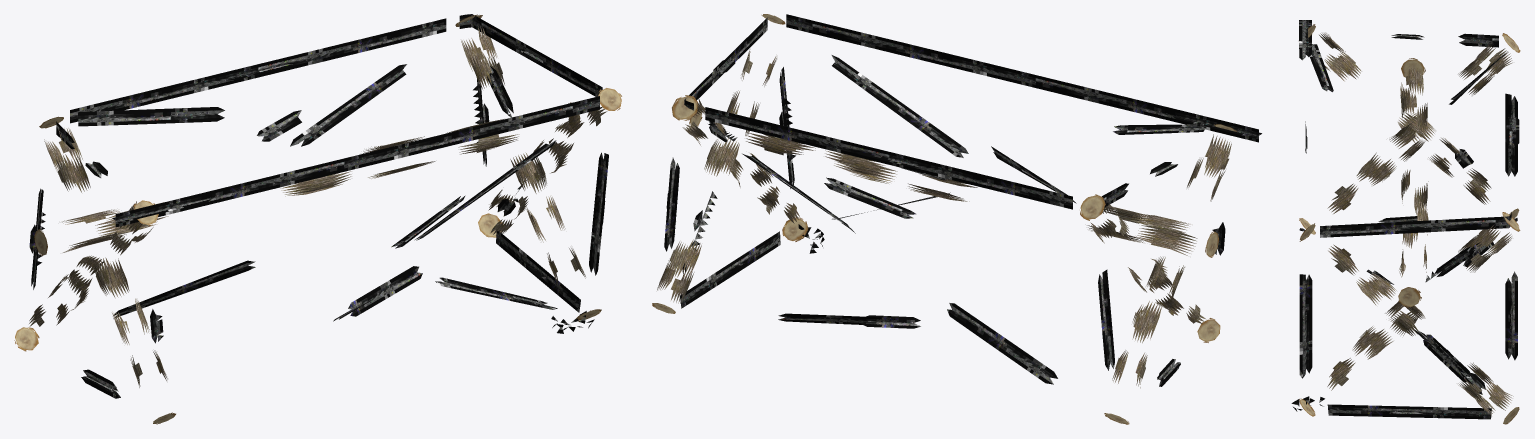
Rendered from log_trap.glb.
3 renders of one model, left to right at view 1: azimuth 30°, elevation 25°; view 2: azimuth 150°, elevation 25°; view 3: azimuth 270°, elevation 25°, orthographic. The views are drawn at different scales.
Visible parts, largest first — view 1: Object_16, Object_14, Object_15; view 2: Object_16, Object_14, Object_15; view 3: Object_16, Object_14, Object_15.
Boxes of the visible parts, box(x1,y1,x2,y2) form: Object_16: box(29, 14, 608, 398); Object_14: box(29, 26, 607, 387); Object_15: box(14, 14, 621, 424); Object_16: box(664, 14, 1261, 386); Object_14: box(657, 49, 1231, 388); Object_15: box(652, 14, 1236, 424); Object_16: box(1291, 20, 1519, 419); Object_14: box(1319, 32, 1513, 415); Object_15: box(1299, 24, 1520, 424).
Bounding box in the file's own units: 2.6 × 1.08 × 1.11.
Materials: 3 (3 with a texture image).
